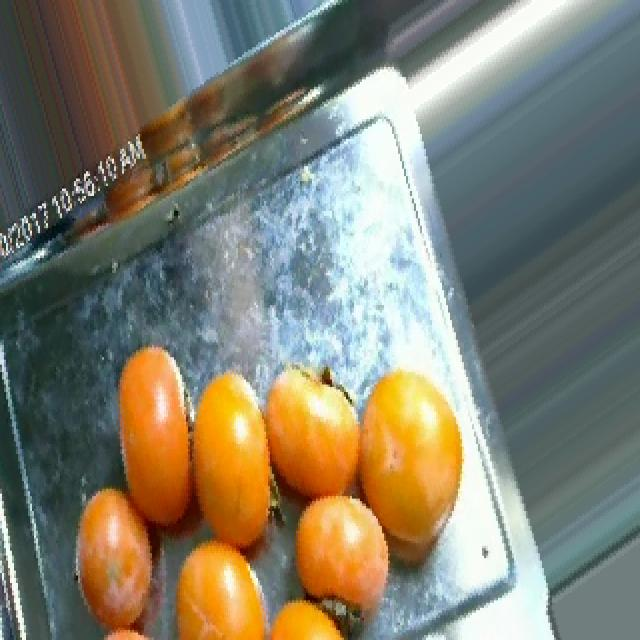Fruit: (98, 327, 206, 516), (60, 469, 176, 640), (164, 528, 272, 640), (262, 583, 356, 640)
